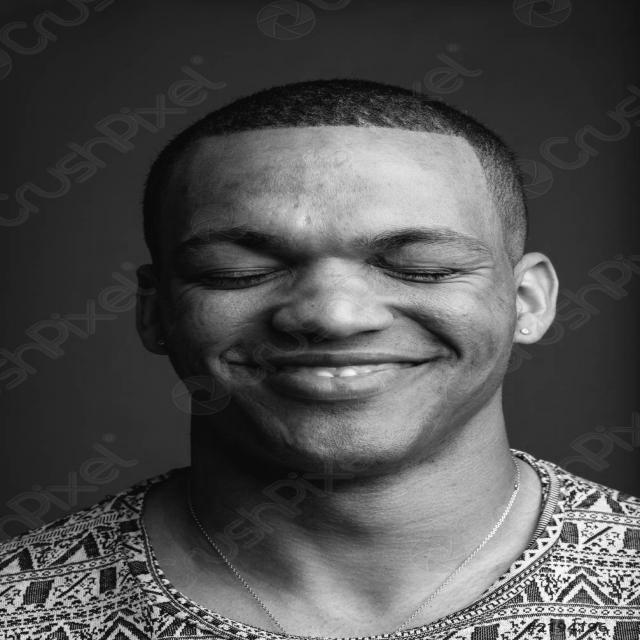real: (129, 83, 561, 489), (156, 218, 512, 296)
